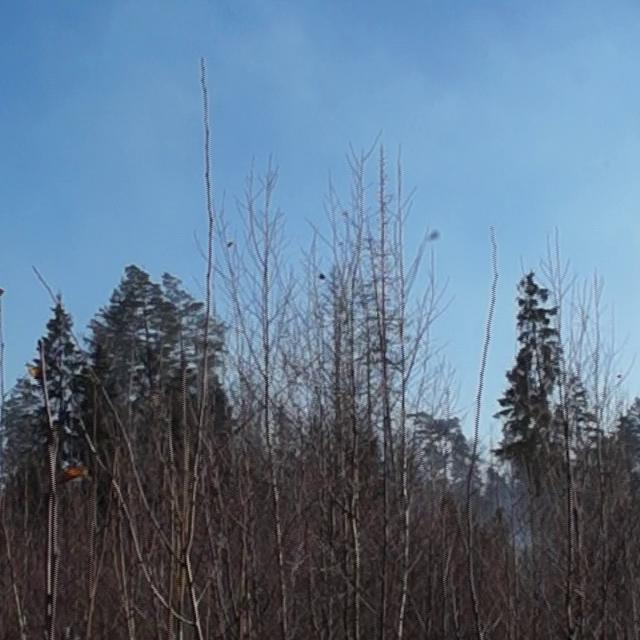Smoke: (438, 458, 540, 568)
